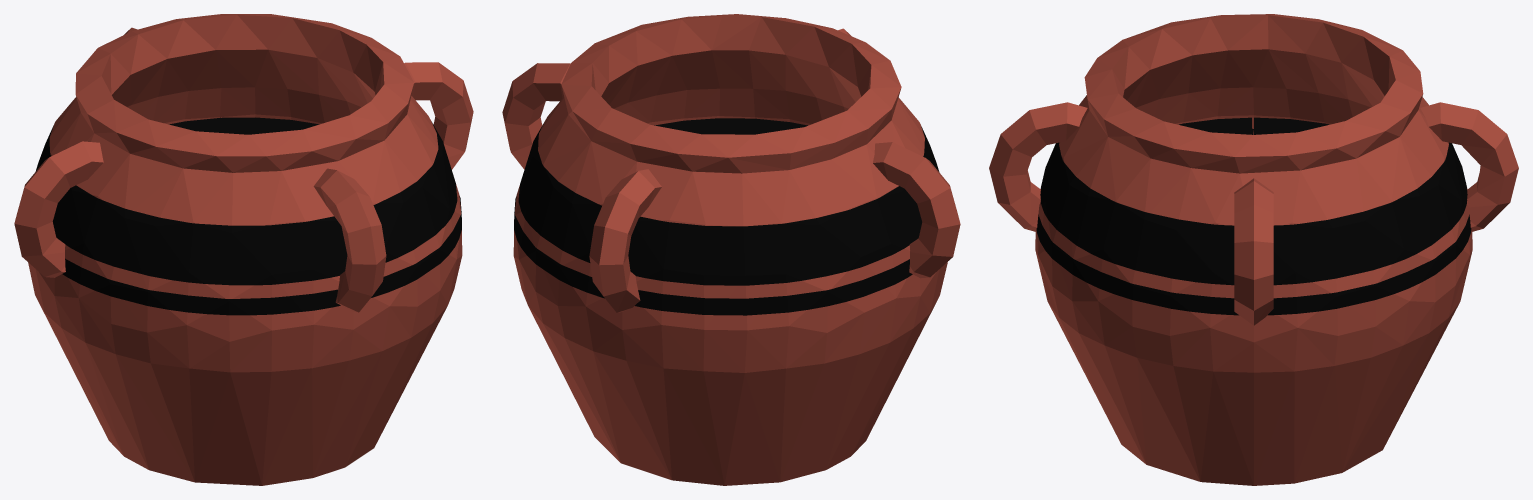
File: Pottery 10_2.fbx
The picture shows the model from 3 angles, left to right: view 1: azimuth 30°, elevation 25°; view 2: azimuth 150°, elevation 25°; view 3: azimuth 270°, elevation 25°; orthographic projection.
Visible parts, largest first — view 1: Pottery 10_2; view 2: Pottery 10_2; view 3: Pottery 10_2.
Part boxes in pixels (bbox=[...]): Pottery 10_2: bbox=[14, 14, 473, 485]; Pottery 10_2: bbox=[502, 14, 960, 485]; Pottery 10_2: bbox=[989, 14, 1518, 485].
Bounding box in the file's own units: 87.53 × 64.27 × 87.53.
